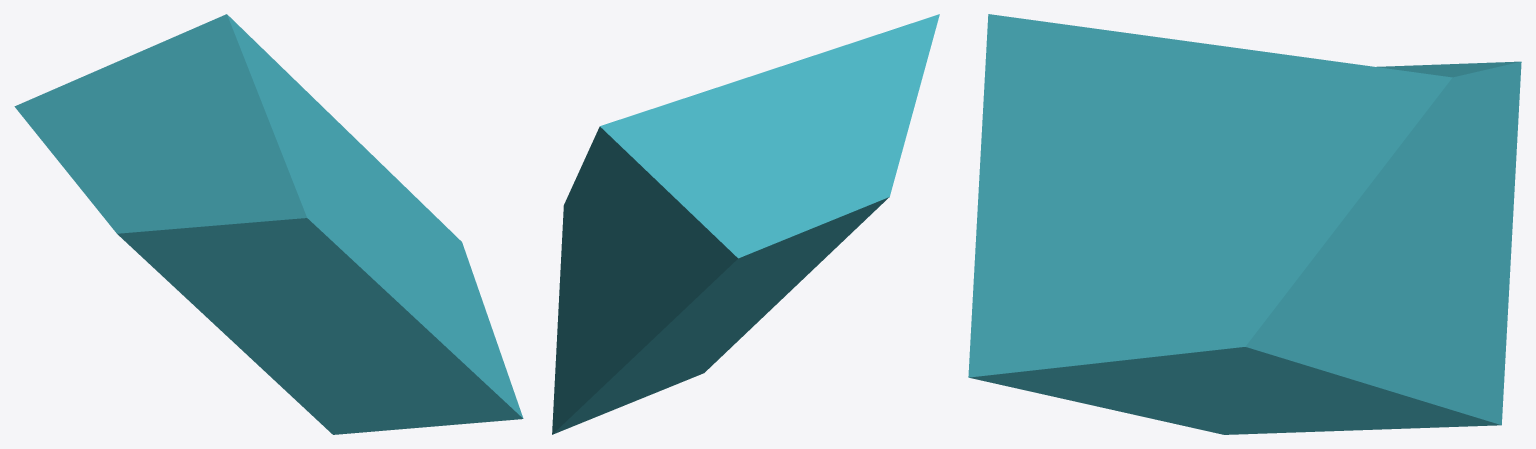
3 renders of one model, left to right at view 1: azimuth 30°, elevation 25°; view 2: azimuth 150°, elevation 25°; view 3: azimuth 270°, elevation 25°, orthographic. The views are drawn at different scales.
Parts seen in each view (by area): view 1: Cube.024; view 2: Cube.024; view 3: Cube.024.
Part boxes in pixels (x1,y1,x2,y2): Cube.024: (14,14,523,434); Cube.024: (552,14,939,434); Cube.024: (968,14,1521,434).
Bounding box in the file's own units: 0.9251 × 0.8721 × 1.22.
